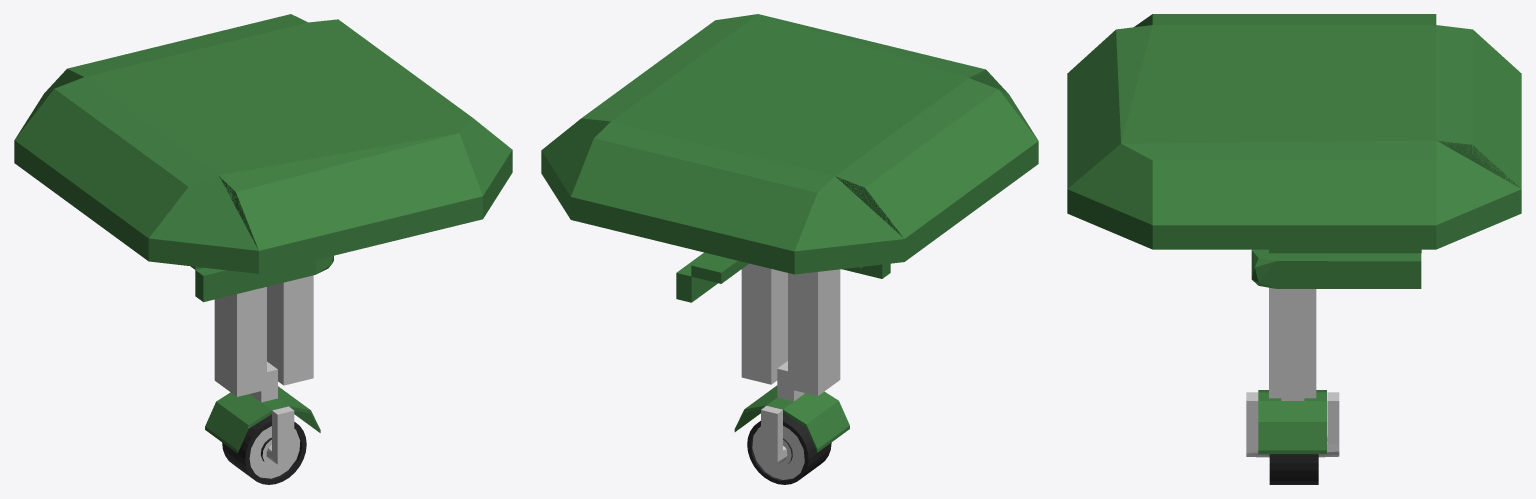
Rendered from agrobot.fbx.
3 renders of one model, left to right at view 1: azimuth 30°, elevation 25°; view 2: azimuth 150°, elevation 25°; view 3: azimuth 270°, elevation 25°, orthographic. The views are drawn at different scales.
Visible parts, largest first — view 1: roof, leg, wheel holder, wheel, beam length; view 2: roof, leg, wheel holder, wheel, beam width; view 3: roof, leg, wheel holder, beam width, wheel.
Boxes of the visible parts, box(x1,y1,x2,y2) form: roof: box(14, 14, 512, 273); leg: box(214, 255, 333, 396); wheel holder: box(205, 361, 320, 468); wheel: box(222, 414, 306, 484); beam length: box(191, 266, 233, 302); roof: box(541, 14, 1038, 274); leg: box(741, 263, 852, 395); wheel holder: box(734, 361, 849, 467); wheel: box(747, 413, 831, 484); beam width: box(676, 252, 748, 302); roof: box(1067, 14, 1521, 249); leg: box(1251, 249, 1327, 398); wheel holder: box(1246, 390, 1339, 457); beam width: box(1328, 249, 1421, 288); wheel: box(1269, 454, 1318, 484).
Size of the model in its own units: 1822 by 1803 by 1864.
